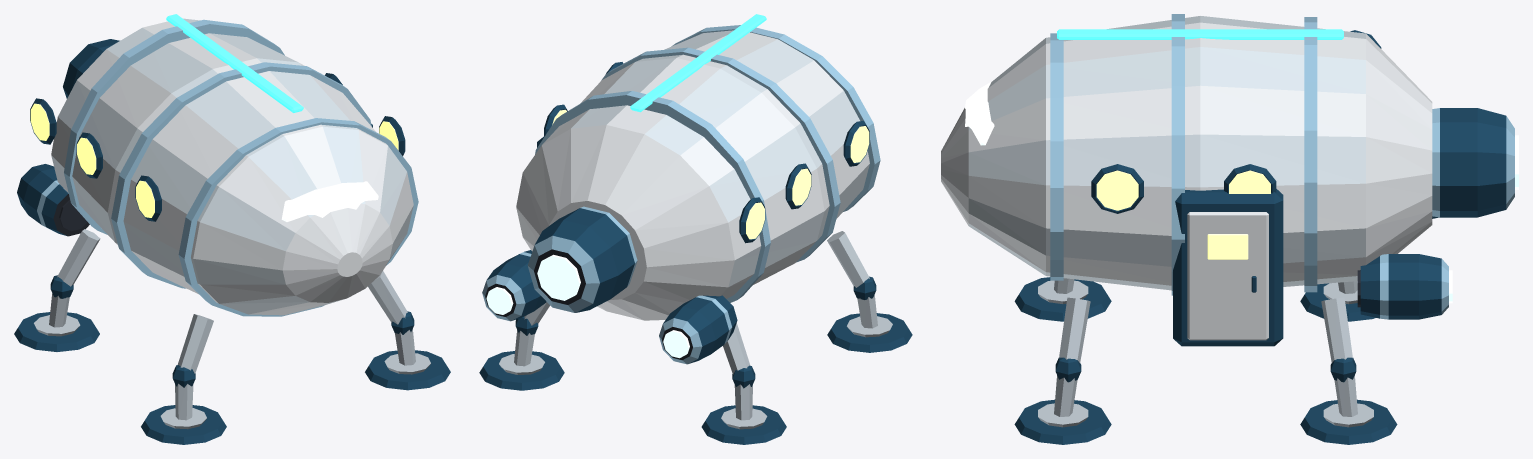
File: fro-p_gelandet.glb
3 renders of one model, left to right at view 1: azimuth 30°, elevation 25°; view 2: azimuth 150°, elevation 25°; view 3: azimuth 270°, elevation 25°, orthographic. The views are drawn at different scales.
Parts seen in each view (by area): view 1: rumpf, dämmringe, landebein_2, landebein_4, landebein_1, fenster, triebwerk_r, cockpit, aurorastreifen, triebwerk_m; view 2: rumpf, dämmringe, triebwerk_m, landebein_2, landebein_4, triebwerk_r, landebein_3, fenster, triebwerk_l, aurorastreifen; view 3: rumpf, tür, dämmringe, triebwerk_m, türmodul, landebein_3, landebein_1, triebwerk_l, fenster, aurorastreifen, landebein_2, landebein_4 (+1 smaller).
Part boxes in pixels (x1=…): rumpf: x1=51, y1=18, x2=413, y2=315; dämmringe: x1=64, y1=19, x2=418, y2=316; landebein_2: x1=141, y1=314, x2=226, y2=444; landebein_4: x1=14, y1=229, x2=100, y2=351; landebein_1: x1=365, y1=271, x2=450, y2=390; fenster: x1=30, y1=73, x2=405, y2=221; triebwerk_r: x1=17, y1=164, x2=89, y2=236; cockpit: x1=281, y1=181, x2=378, y2=221; aurorastreifen: x1=166, y1=14, x2=303, y2=112; triebwerk_m: x1=63, y1=39, x2=119, y2=98; rumpf: x1=516, y1=30, x2=869, y2=320; dämmringe: x1=535, y1=25, x2=880, y2=302; triebwerk_m: x1=527, y1=206, x2=637, y2=312; landebein_2: x1=827, y1=231, x2=912, y2=352; landebein_4: x1=701, y1=323, x2=786, y2=444; triebwerk_r: x1=659, y1=295, x2=737, y2=364; landebein_3: x1=479, y1=302, x2=564, y2=390; fenster: x1=544, y1=62, x2=869, y2=243; triebwerk_l: x1=482, y1=250, x2=546, y2=321; aurorastreifen: x1=630, y1=14, x2=766, y2=112; rumpf: x1=941, y1=16, x2=1432, y2=290; tür: x1=1187, y1=212, x2=1268, y2=340; dämmringe: x1=1050, y1=14, x2=1317, y2=295; triebwerk_m: x1=1432, y1=108, x2=1518, y2=217; türmodul: x1=1173, y1=189, x2=1283, y2=346; landebein_3: x1=1300, y1=297, x2=1397, y2=444; landebein_1: x1=1014, y1=297, x2=1111, y2=444; triebwerk_l: x1=1357, y1=254, x2=1452, y2=319; fenster: x1=1091, y1=30, x2=1381, y2=213; aurorastreifen: x1=1057, y1=29, x2=1343, y2=39; landebein_2: x1=1014, y1=277, x2=1111, y2=321; landebein_4: x1=1300, y1=281, x2=1375, y2=321.
Size of the model in its own units: 0.088 by 0.0828 by 0.1309.
